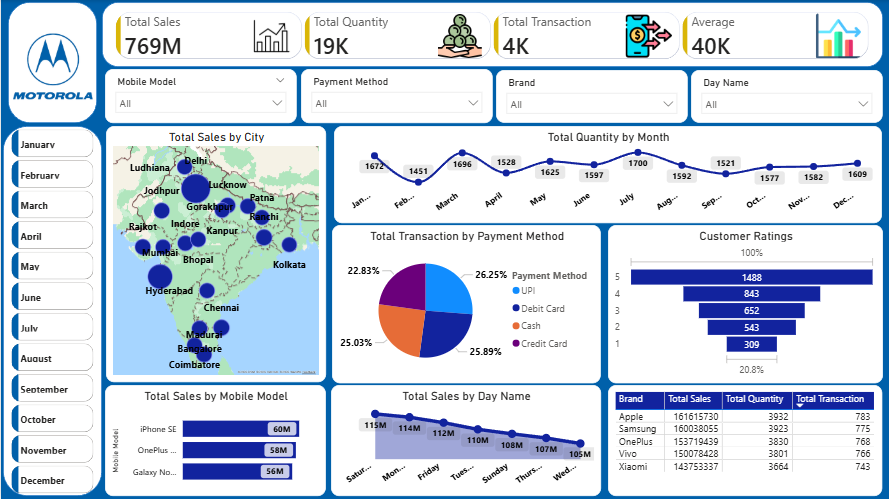

Layout of this report page (visuals, bound fields, positions):
{"tool":"powerbi","page":{"name":"Page 1","canvas":[1280,720],"ordinal":0},"visuals":[{"type":"shape","box":[145.4,2.9,1124.6,93.6],"z":0},{"type":"shape","box":[10.1,2.9,128.2,174.2],"z":1000},{"type":"shape","box":[2.9,181.4,142.6,532.8],"z":2000},{"type":"image","box":[17.3,7.2,115.2,177.1],"z":3000},{"type":"advancedSlicerVisual","fields":{"Values":["Mobile_Sales_Data.Date.Variation.Date Hierarchy.Month"]},"box":[10.1,181.4,128.2,538.6],"z":4000},{"type":"cardVisual","fields":{"Data":["Mobile_Sales_Data.Total Sales","Mobile_Sales_Data.Total Quantity","Mobile_Sales_Data.Total Transaction","Mobile_Sales_Data.Average"]},"box":[148.3,0,1121.8,102.2],"z":5000},{"type":"azureMap","fields":{"Category":["Mobile_Sales_Data.City"],"Size":["Mobile_Sales_Data.Total Sales"]},"box":[151.2,181.4,316.8,368.6],"z":6000},{"type":"lineChart","fields":{"Category":["Mobile_Sales_Data.Date.Variation.Date Hierarchy.Month","Mobile_Sales_Data.Date.Variation.Date Hierarchy.Day"],"Y":["Mobile_Sales_Data.Total Quantity"]},"box":[479.5,181.4,789.1,139.7],"z":7000},{"type":"clusteredBarChart","fields":{"Category":["Mobile_Sales_Data.Mobile Model"],"Y":["Mobile_Sales_Data.Total Sales"]},"box":[149.8,554.4,318.2,159.8],"z":8000},{"type":"pieChart","fields":{"Category":["Mobile_Sales_Data.Payment Method"],"Y":["Mobile_Sales_Data.Total Transaction"]},"box":[476.6,324,387.4,227.5],"z":9000},{"type":"funnel","title":"Customer Ratings","fields":{"Y":["CountNonNull(Mobile_Sales_Data.Customer Ratings)"],"Category":["Mobile_Sales_Data.Customer Ratings"]},"box":[874.1,324,396,227.5],"z":10000},{"type":"areaChart","fields":{"Category":["Mobile_Sales_Data.Day Name"],"Y":["Mobile_Sales_Data.Total Sales"]},"box":[475.2,554.4,388.8,159.8],"z":11000},{"type":"tableEx","fields":{"Values":["Mobile_Sales_Data.Brand","Mobile_Sales_Data.Total Sales","Mobile_Sales_Data.Total Quantity","Mobile_Sales_Data.Total Transaction"]},"box":[874.1,554.4,394.6,159.8],"z":12000},{"type":"slicer","fields":{"Values":["Mobile_Sales_Data.Mobile Model"]},"box":[149.8,99.7,276.5,77.8],"z":13000},{"type":"slicer","fields":{"Values":["Mobile_Sales_Data.Payment Method"]},"box":[432,99.7,276.5,77.8],"z":14000},{"type":"slicer","fields":{"Values":["Mobile_Sales_Data.Brand"]},"box":[712.8,101.2,276.5,76.3],"z":15000},{"type":"slicer","fields":{"Values":["Mobile_Sales_Data.Day Name"]},"box":[993.6,101.2,276.5,76.3],"z":16000}]}

Visuals, with their boxes in screenshot pixels (x1, y1, x2, y2), scaled from the page's 1280x720 canvas onto the 889x499 screenshot:
shape: locate(101, 2, 882, 67)
shape: locate(7, 2, 96, 123)
shape: locate(2, 126, 101, 495)
image: locate(12, 5, 92, 128)
advancedSlicerVisual - Mobile_Sales_Data.Date.Variation.Date Hierarchy.Month: locate(7, 126, 96, 498)
cardVisual - Mobile_Sales_Data.Total Sales x Mobile_Sales_Data.Total Quantity: locate(103, 0, 882, 71)
azureMap - Mobile_Sales_Data.City x Mobile_Sales_Data.Total Sales: locate(105, 126, 325, 381)
lineChart - Mobile_Sales_Data.Date.Variation.Date Hierarchy.Month x Mobile_Sales_Data.Date.Variation.Date Hierarchy.Day: locate(333, 126, 881, 223)
clusteredBarChart - Mobile_Sales_Data.Mobile Model x Mobile_Sales_Data.Total Sales: locate(104, 384, 325, 495)
pieChart - Mobile_Sales_Data.Payment Method x Mobile_Sales_Data.Total Transaction: locate(331, 225, 600, 382)
"Customer Ratings" funnel: locate(607, 225, 882, 382)
areaChart - Mobile_Sales_Data.Day Name x Mobile_Sales_Data.Total Sales: locate(330, 384, 600, 495)
tableEx - Mobile_Sales_Data.Brand x Mobile_Sales_Data.Total Sales: locate(607, 384, 881, 495)
slicer - Mobile_Sales_Data.Mobile Model: locate(104, 69, 296, 123)
slicer - Mobile_Sales_Data.Payment Method: locate(300, 69, 492, 123)
slicer - Mobile_Sales_Data.Brand: locate(495, 70, 687, 123)
slicer - Mobile_Sales_Data.Day Name: locate(690, 70, 882, 123)
